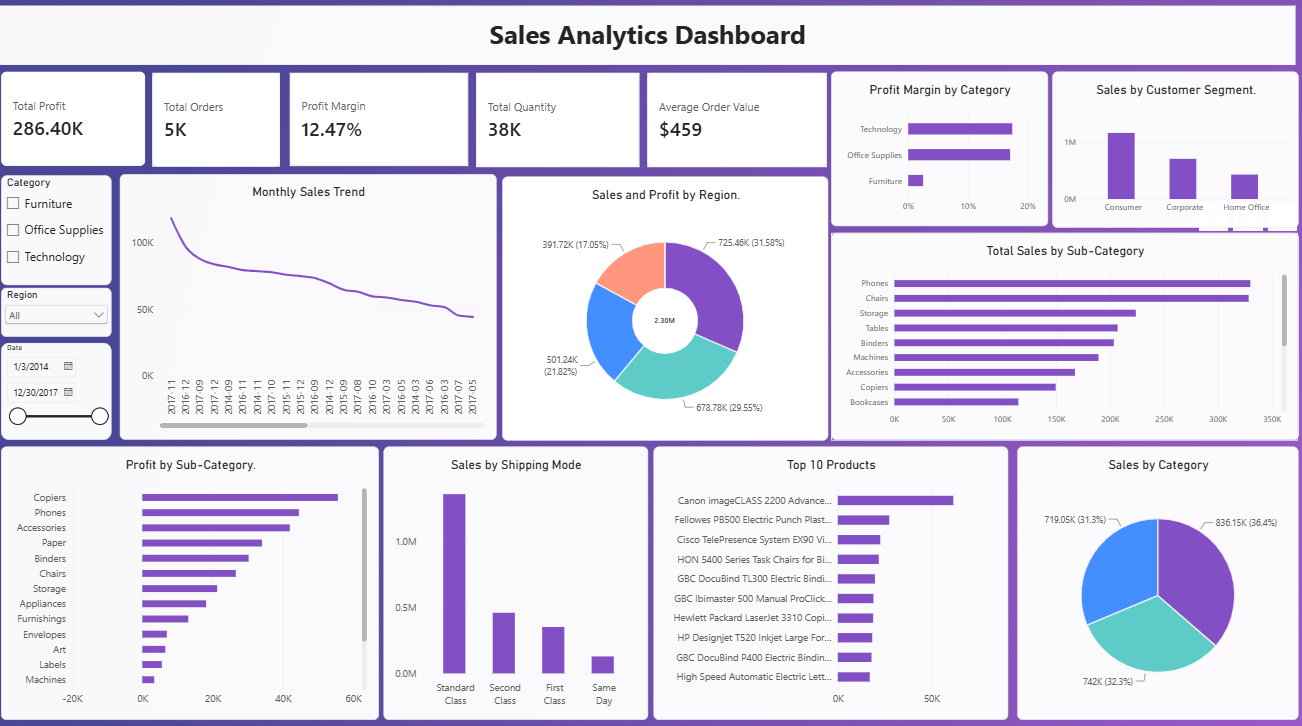

Layout of this report page (visuals, bound fields, positions):
{"tool":"powerbi","page":{"name":"kanga","canvas":[1920,1080],"ordinal":0},"visuals":[{"type":"cardVisual","fields":{"Data":["Superstore.Total Profit"]},"box":[22.5,112.8,209.1,137.3],"z":0},{"type":"cardVisual","fields":{"Data":["Superstore.Total Orders"]},"box":[241.5,114.9,185,136.2],"z":1000},{"type":"cardVisual","fields":{"Data":["Superstore.Profit Margin"]},"box":[439.4,114.5,258.3,135],"z":2000},{"type":"lineChart","title":"Monthly Sales Trend","fields":{"Category":["Calendar.Year Month"],"Y":["Superstore.Total Sales"]},"box":[194.1,261.5,545.3,384.9],"z":3000},{"type":"pieChart","title":"Sales by Category","fields":{"Category":["Superstore.Category"],"Y":["Superstore.Total Sales"]},"box":[1492.2,655.8,407.5,396.2],"z":4000},{"type":"donutChart","title":"Sales and Profit by Region.","fields":{"Category":["Superstore.Region"],"Y":["Superstore.Total Sales"]},"box":[746.6,263.6,471.7,382.5],"z":5000},{"type":"clusteredBarChart","title":"Top 10 Products","fields":{"Category":["Superstore.Product Name"],"Y":["Superstore.Total Sales"]},"box":[965.8,655.8,513.2,396.2],"z":6000},{"type":"slicer","fields":{"Values":["Superstore.Region"]},"box":[22.2,425.6,160,71.1],"z":7000},{"type":"slicer","fields":{"Values":["Superstore.Category"]},"box":[22.2,262.2,160,159],"z":8000},{"type":"slicer","fields":{"Values":["Calendar.Date"]},"box":[22.2,505.6,160,141.1],"z":9000},{"type":"clusteredBarChart","fields":{"Category":["Superstore.Sub-Category"],"Y":["Superstore.Total Sales"]},"box":[1222.4,346.1,677.5,300],"z":10000},{"type":"cardVisual","fields":{"Data":["Superstore.Total Quantity"]},"box":[709.4,114.5,236.7,136.7],"z":11000},{"type":"cardVisual","fields":{"Data":["Superstore.Average Order Value"]},"box":[957.8,114.5,260,136.7],"z":12000},{"type":"clusteredColumnChart","title":"Sales by Customer Segment.","fields":{"Category":["Superstore.Segment"],"Y":["Superstore.Total Sales"]},"box":[1543.1,112.4,356.6,226.4],"z":13000},{"type":"clusteredBarChart","title":"Profit by Sub-Category.","fields":{"Category":["Superstore.Sub-Category"],"Y":["Superstore.Total Profit"]},"box":[22.4,655.8,547.2,396.2],"z":14000},{"type":"clusteredColumnChart","title":"Sales by Shipping Mode","fields":{"Category":["Superstore.Ship Mode"],"Y":["Superstore.Total Sales"]},"box":[575.2,655.8,383,396.2],"z":15000},{"type":"clusteredBarChart","title":"Profit Margin by Category","fields":{"Category":["Superstore.Category"],"Y":["Superstore.Profit Margin"]},"box":[1222.4,112.8,314.2,224.2],"z":16000},{"type":"textbox","box":[20,16,1876,86],"z":17000}]}

Visuals, with their boxes in screenshot pixels (x1, y1, x2, y2), scaled from the page's 1920x1080 canvas onto the 1302x726 screenshot:
cardVisual - Superstore.Total Profit: crop(15, 76, 157, 168)
cardVisual - Superstore.Total Orders: crop(164, 77, 289, 169)
cardVisual - Superstore.Profit Margin: crop(298, 77, 473, 168)
"Monthly Sales Trend" lineChart: crop(132, 176, 501, 435)
"Sales by Category" pieChart: crop(1012, 441, 1288, 707)
"Sales and Profit by Region." donutChart: crop(506, 177, 826, 434)
"Top 10 Products" clusteredBarChart: crop(655, 441, 1003, 707)
slicer - Superstore.Region: crop(15, 286, 124, 334)
slicer - Superstore.Category: crop(15, 176, 124, 283)
slicer - Calendar.Date: crop(15, 340, 124, 435)
clusteredBarChart - Superstore.Sub-Category x Superstore.Total Sales: crop(829, 233, 1288, 434)
cardVisual - Superstore.Total Quantity: crop(481, 77, 642, 169)
cardVisual - Superstore.Average Order Value: crop(650, 77, 826, 169)
"Sales by Customer Segment." clusteredColumnChart: crop(1046, 76, 1288, 228)
"Profit by Sub-Category." clusteredBarChart: crop(15, 441, 386, 707)
"Sales by Shipping Mode" clusteredColumnChart: crop(390, 441, 650, 707)
"Profit Margin by Category" clusteredBarChart: crop(829, 76, 1042, 227)
textbox: crop(14, 11, 1286, 69)
